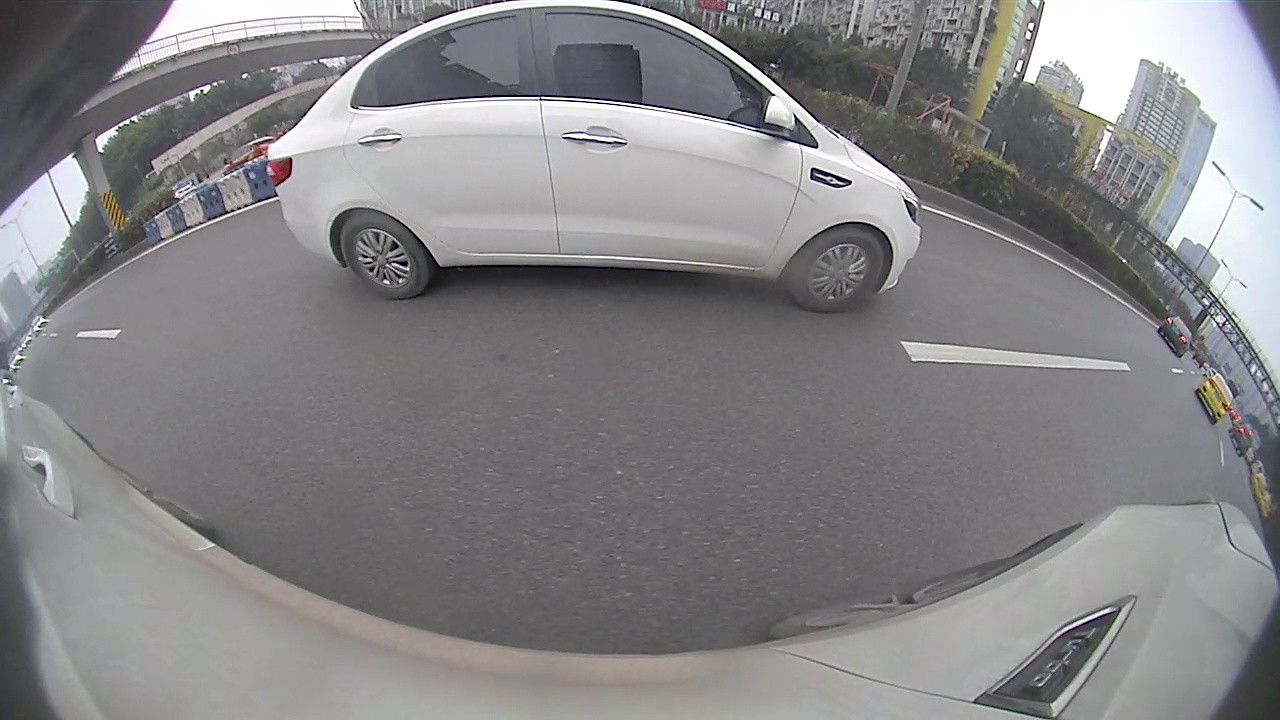car: (263, 1, 924, 317), (1193, 370, 1235, 427), (1157, 313, 1194, 358)
front: (779, 223, 887, 316)
rear: (335, 209, 429, 301)
